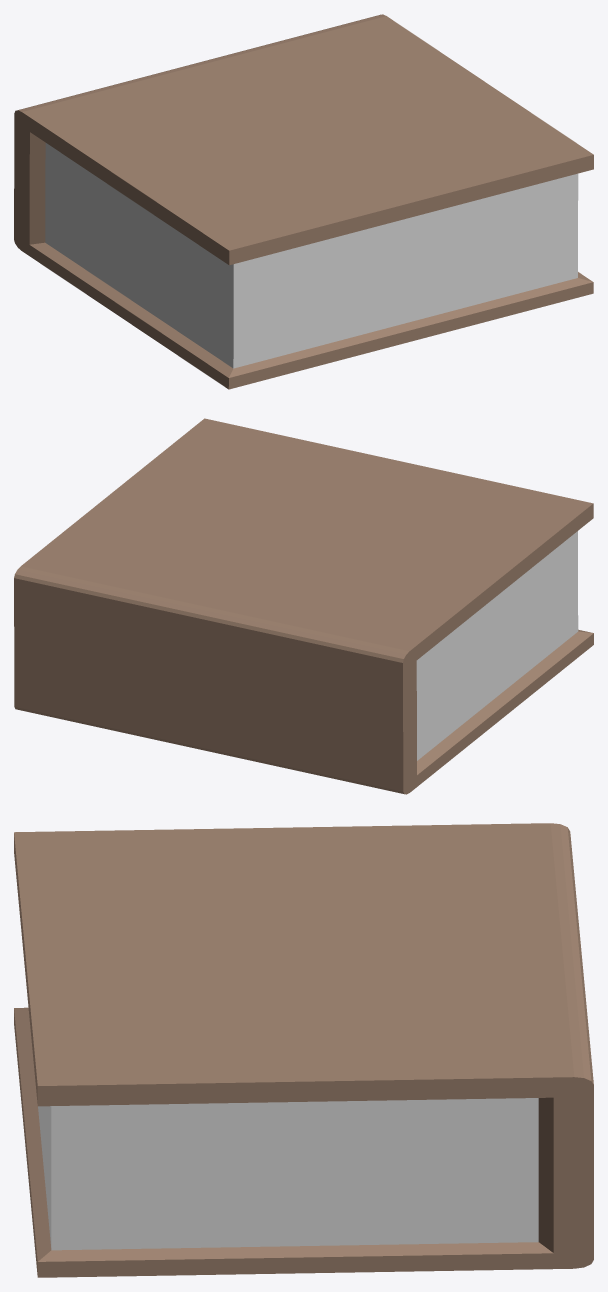
Rendered from Prop_Biblioteca_Libro6.fbx.
The picture shows the model from 3 angles, top to bottom: view 1: azimuth 30°, elevation 25°; view 2: azimuth 150°, elevation 25°; view 3: azimuth 270°, elevation 25°; orthographic projection. The views are drawn at different scales.
Parts seen in each view (by area): view 1: Libro3; view 2: Libro3; view 3: Libro3.
Part boxes in pixels (x1,y1,x2,y2): Libro3: [14, 14, 593, 389]; Libro3: [14, 418, 593, 794]; Libro3: [14, 823, 593, 1277].
Bounding box in the file's own units: 508 × 176 × 476.
